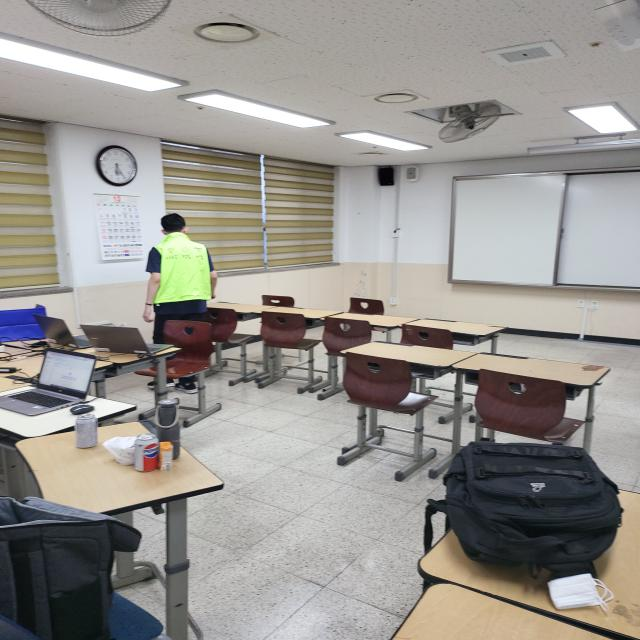weston_spy: (146, 228, 218, 314)
